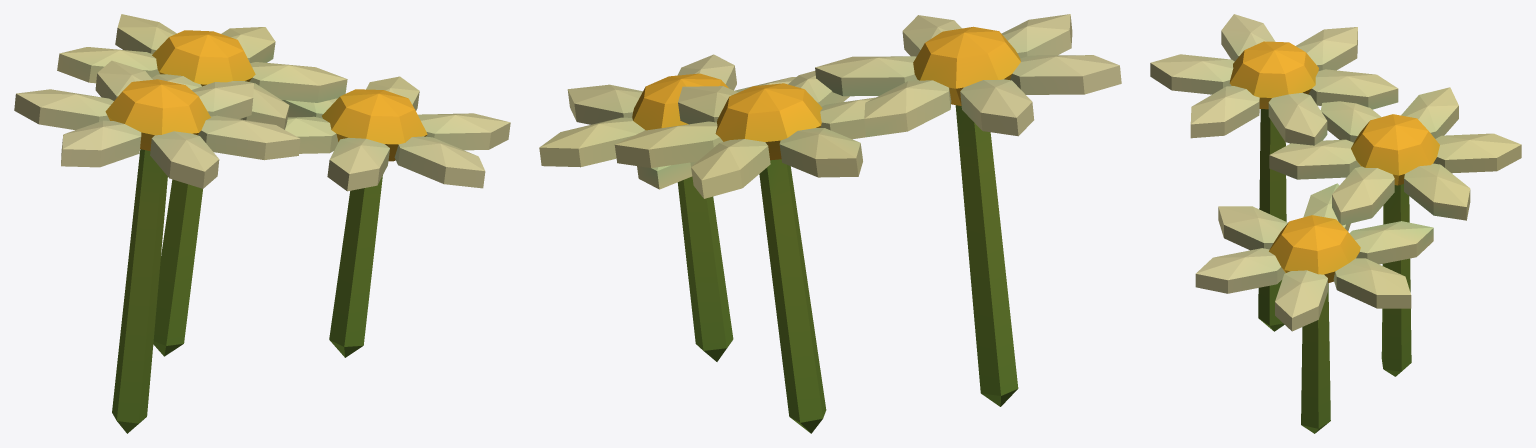
File: Flower_Daisy_01.glb
3 views of the same model, side by side, from view 1: azimuth 30°, elevation 25°; view 2: azimuth 150°, elevation 25°; view 3: azimuth 270°, elevation 25° (orthographic). The views are drawn at different scales.
Visible parts, largest first — view 1: Flower_Daisy_01; view 2: Flower_Daisy_01; view 3: Flower_Daisy_01.
Boxes of the visible parts, <box> form: Flower_Daisy_01: <box>14,14,510,433</box>; Flower_Daisy_01: <box>539,14,1121,433</box>; Flower_Daisy_01: <box>1150,14,1521,433</box>.
Size of the model in its own units: 0.3599 by 0.2427 by 0.2758.
